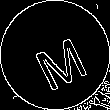M_NW: (23, 22, 87, 88)
